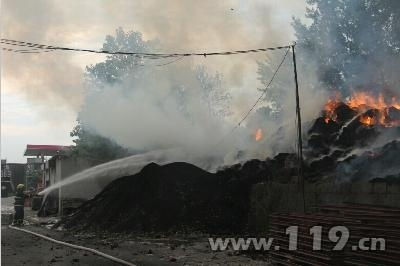fire: (322, 86, 400, 127)
